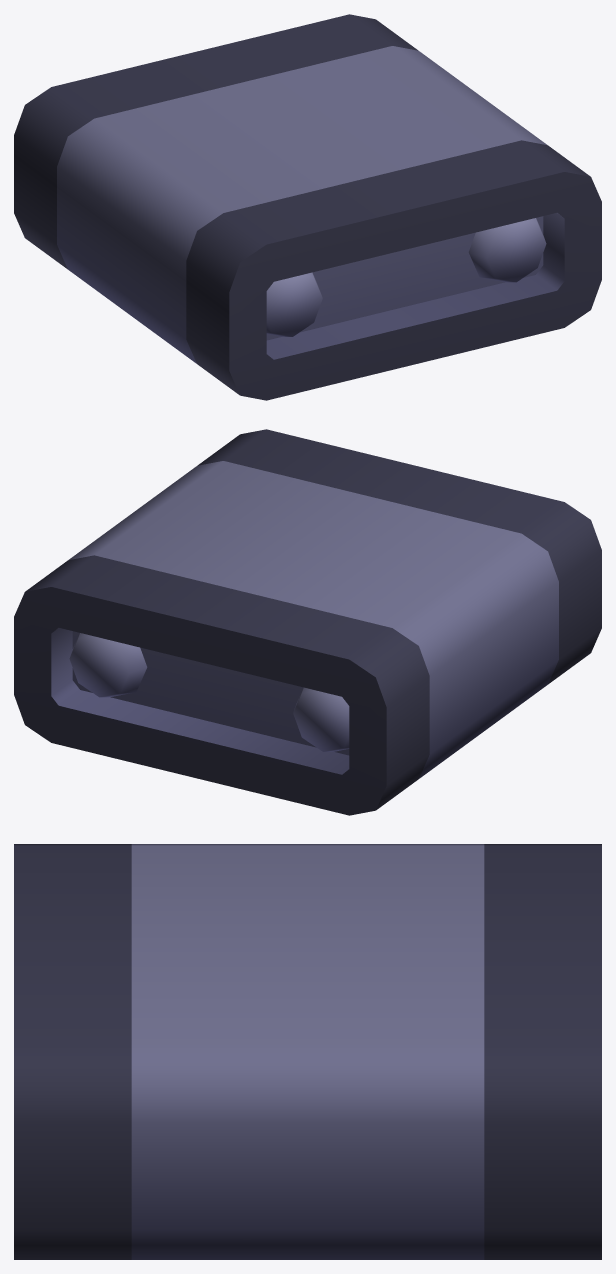
The model's file is conveyor-stripe.glb.
3 renders of one model, top to bottom at view 1: azimuth 30°, elevation 25°; view 2: azimuth 150°, elevation 25°; view 3: azimuth 270°, elevation 25°, orthographic. The views are drawn at different scales.
Parts seen in each view (by area): view 1: conveyor-stripe; view 2: conveyor-stripe; view 3: conveyor-stripe.
Boxes of the visible parts, <box> form: conveyor-stripe: <box>14,14,601,400</box>; conveyor-stripe: <box>14,429,601,815</box>; conveyor-stripe: <box>14,844,601,1259</box>.
Bounding box in the file's own units: 1 × 0.4 × 1.
